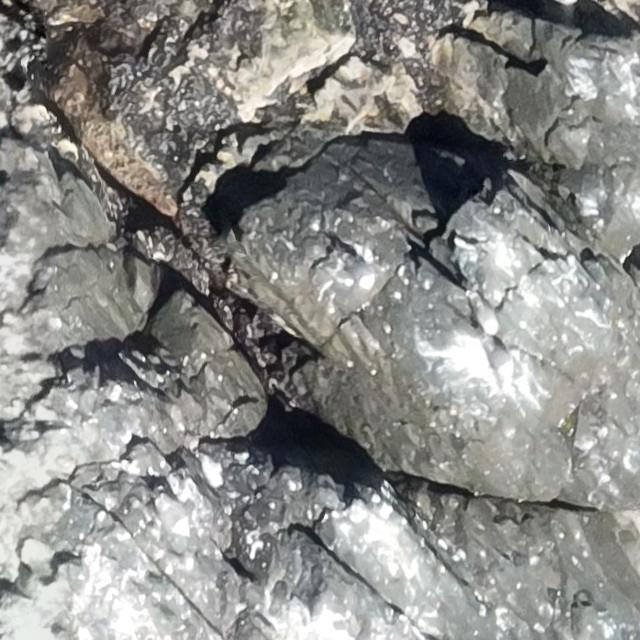umineko: (159, 492, 190, 540), (346, 247, 380, 287), (487, 342, 515, 383), (471, 293, 496, 338)
